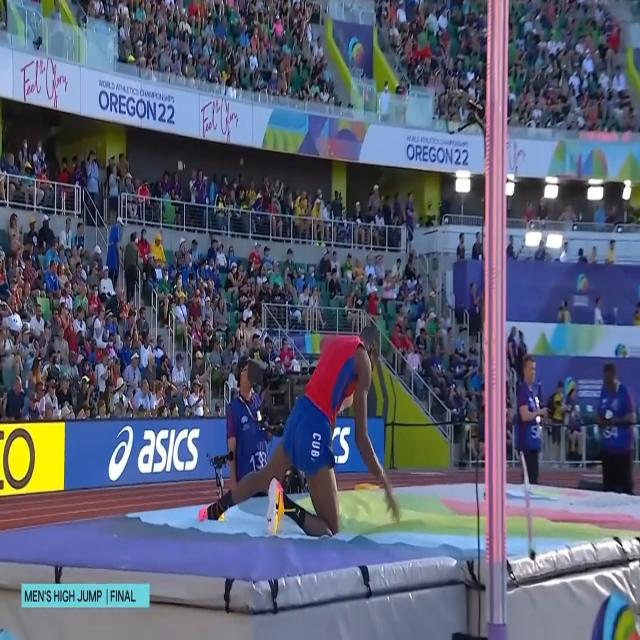land: (198, 318, 402, 542)
